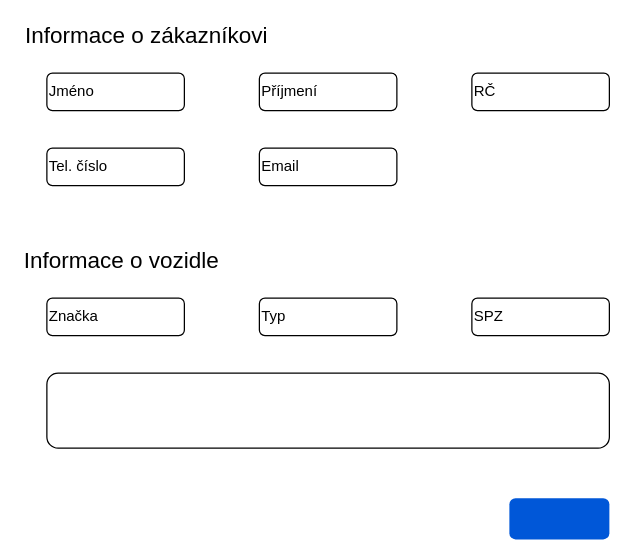
Some shapes in this 631 by 560 pixel diagram are drawn without their labels. The shapes that lost their labels are listed below. From the top down, each one's box as (x1, y1, x2, y2) in pixels, then its label:
(46, 372, 609, 448): Popis závady
(509, 498, 609, 539): Uložit
